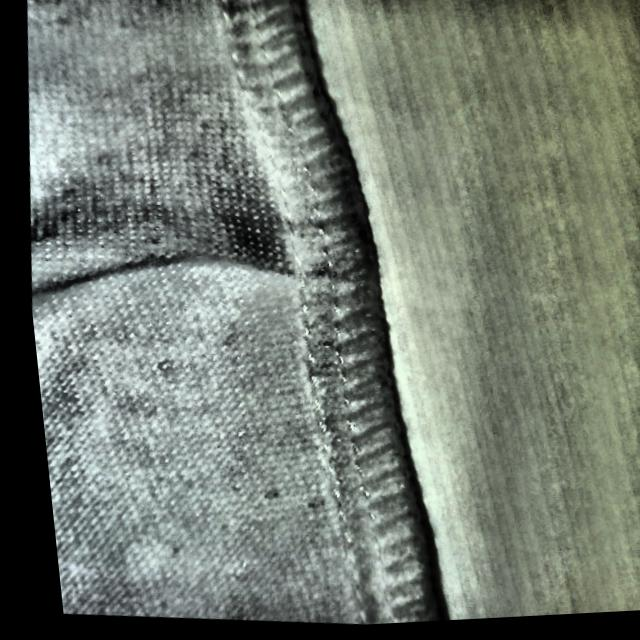seam: (105, 170, 381, 333)
